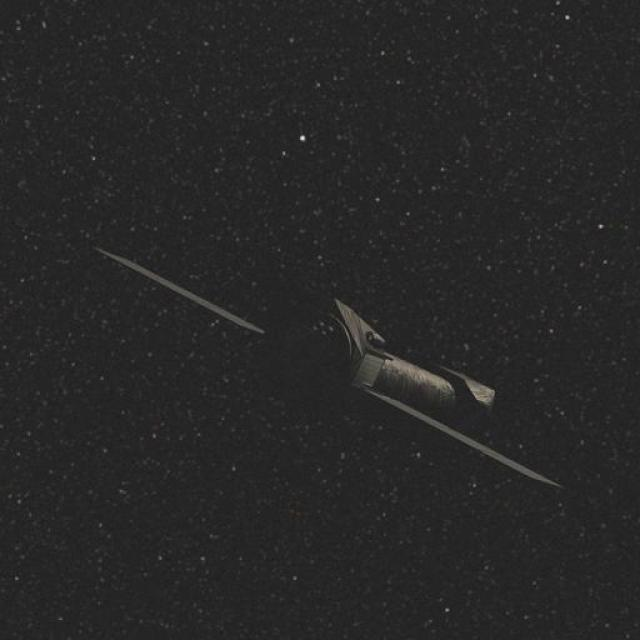xmm_newton: (94, 203, 588, 508)
